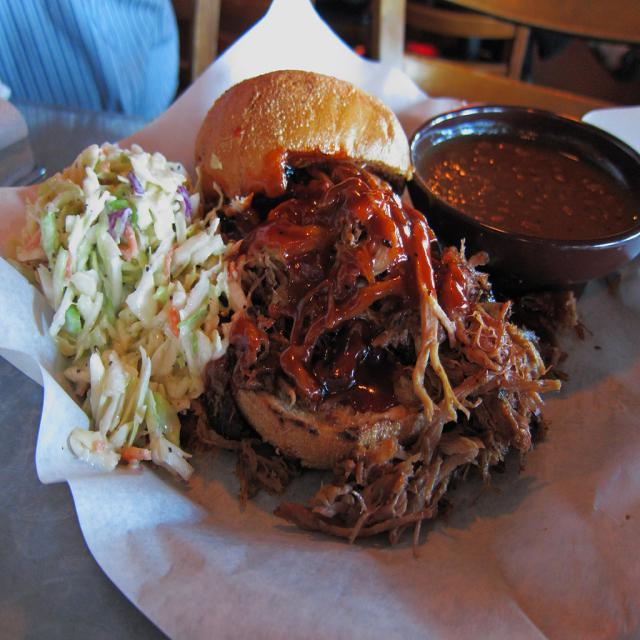Salad: (9, 129, 235, 491)
